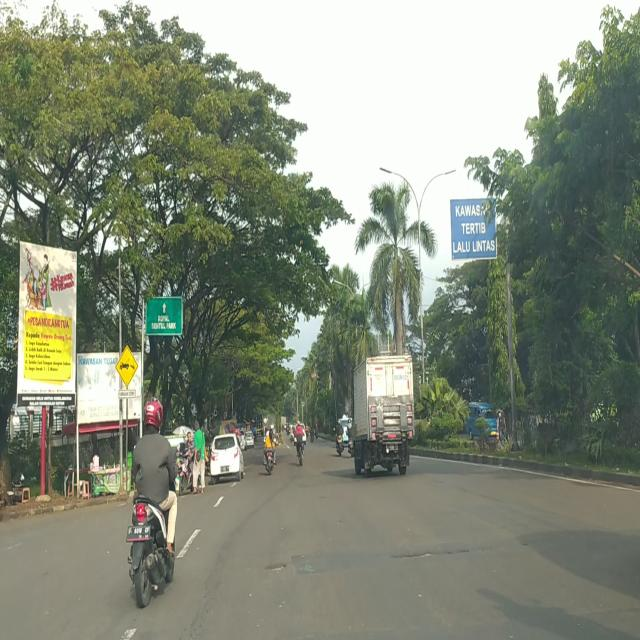Sewer Cover: (378, 546, 476, 560), (257, 558, 293, 576)
